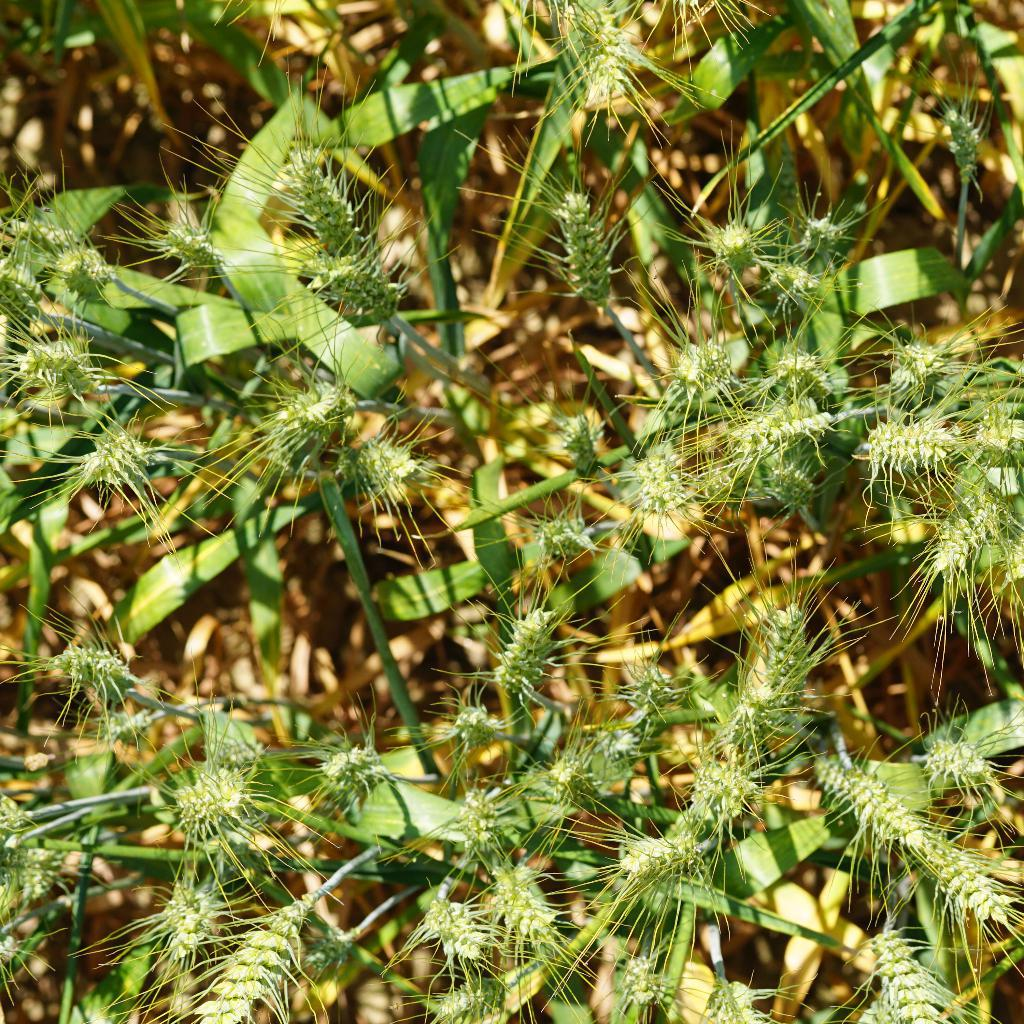0-0: (176, 885, 320, 1024), (892, 810, 1016, 918), (286, 141, 393, 253), (751, 590, 822, 722), (549, 189, 628, 307), (157, 755, 276, 832), (475, 604, 561, 709), (49, 419, 169, 494), (867, 920, 949, 1024), (261, 380, 350, 474), (485, 859, 571, 950), (808, 754, 896, 840), (32, 628, 144, 695), (309, 254, 406, 329), (907, 728, 997, 806), (616, 825, 698, 907), (567, 14, 643, 100), (687, 747, 762, 830), (878, 329, 953, 411), (302, 740, 384, 814), (617, 661, 702, 731), (922, 501, 985, 593), (23, 332, 115, 395), (612, 444, 698, 511), (148, 209, 232, 277), (0, 246, 68, 326), (443, 787, 526, 852), (423, 899, 505, 961), (613, 952, 683, 1024), (731, 399, 826, 452), (153, 886, 220, 961), (0, 834, 70, 904), (942, 100, 996, 190), (963, 393, 1024, 471), (533, 742, 598, 814), (1, 202, 105, 247), (541, 403, 609, 471), (347, 434, 417, 500), (432, 965, 509, 1024), (858, 414, 957, 459), (765, 348, 834, 407), (297, 919, 367, 977), (668, 335, 731, 396), (701, 978, 784, 1024), (60, 257, 130, 311), (93, 702, 168, 752), (542, 505, 600, 567), (763, 459, 826, 516), (703, 216, 763, 275), (447, 706, 504, 766), (766, 256, 821, 313), (986, 505, 1024, 580), (600, 727, 650, 773), (796, 213, 844, 256)
